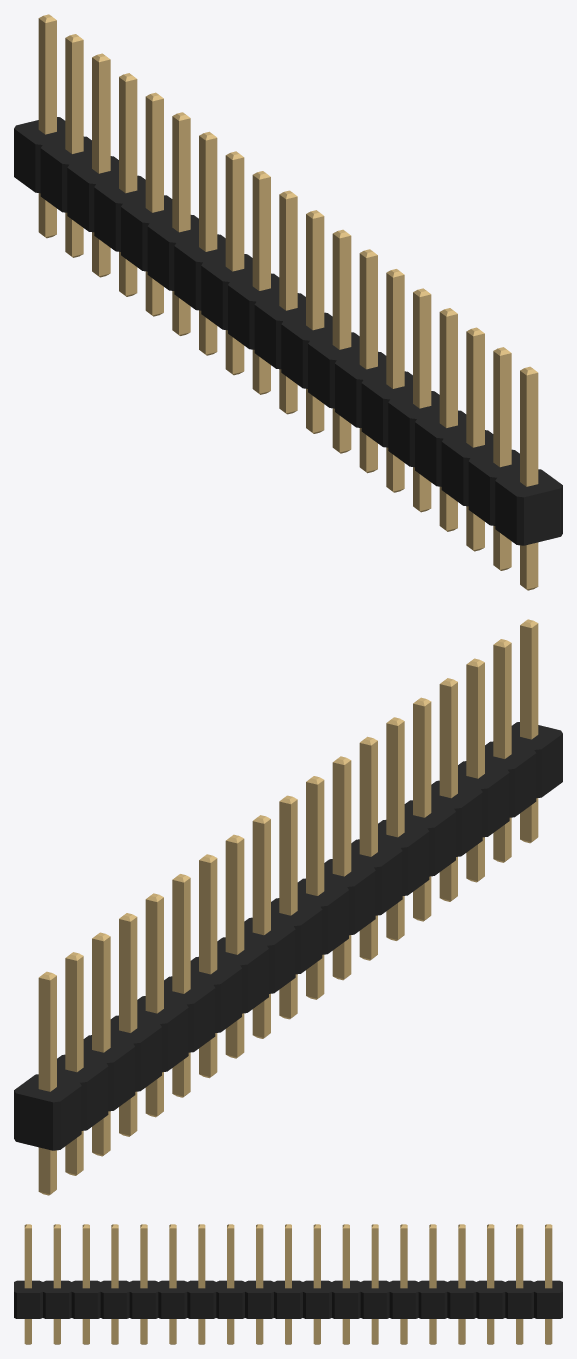
Rendered from pin-header-1x19.glb.
3 views of the same model, one above another, from view 1: azimuth 30°, elevation 25°; view 2: azimuth 150°, elevation 25°; view 3: azimuth 270°, elevation 25° (orthographic). The views are drawn at different scales.
Visible parts, largest first — view 1: PinHeader_1x19_P254mm_Vertical_8a7861, PinHeader_1x19_P254mm_Vertical_aac588; view 2: PinHeader_1x19_P254mm_Vertical_8a7861, PinHeader_1x19_P254mm_Vertical_aac588; view 3: PinHeader_1x19_P254mm_Vertical_aac588, PinHeader_1x19_P254mm_Vertical_8a7861.
Part boxes in pixels (x1,y1,x2,y2): PinHeader_1x19_P254mm_Vertical_8a7861: [38, 14, 538, 590]; PinHeader_1x19_P254mm_Vertical_aac588: [14, 117, 562, 545]; PinHeader_1x19_P254mm_Vertical_8a7861: [38, 619, 538, 1195]; PinHeader_1x19_P254mm_Vertical_aac588: [14, 722, 562, 1150]; PinHeader_1x19_P254mm_Vertical_aac588: [14, 1280, 562, 1318]; PinHeader_1x19_P254mm_Vertical_8a7861: [24, 1224, 552, 1344].
Bounding box in the file's own units: 2.54 × 11.54 × 48.26.
